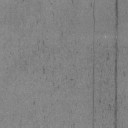surface scratch: (90, 0, 94, 128), (114, 0, 118, 128)
